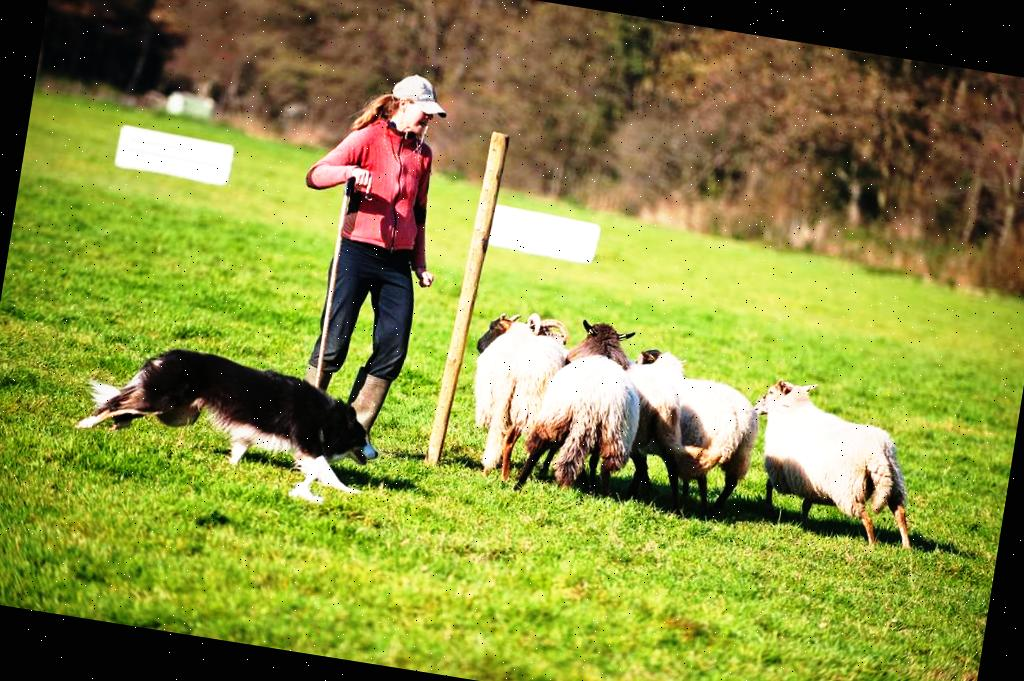Sheep: (732, 363, 952, 564), (517, 304, 662, 510), (612, 345, 764, 522), (456, 301, 578, 489)
